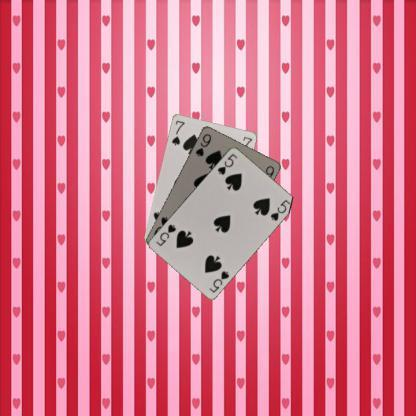5s: (206, 268, 231, 294), (216, 150, 238, 176)
7s: (169, 118, 186, 147)
9s: (194, 130, 212, 158)
